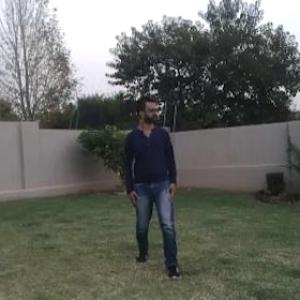follow: (126, 84, 179, 262)
